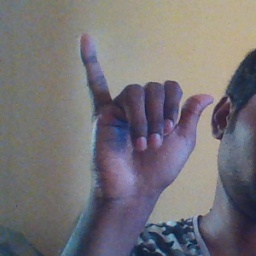J: (76, 33, 213, 192)
